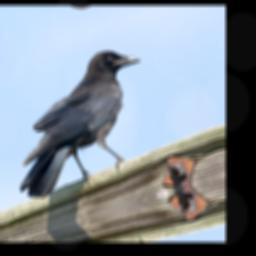Crow: (0, 41, 172, 205)
